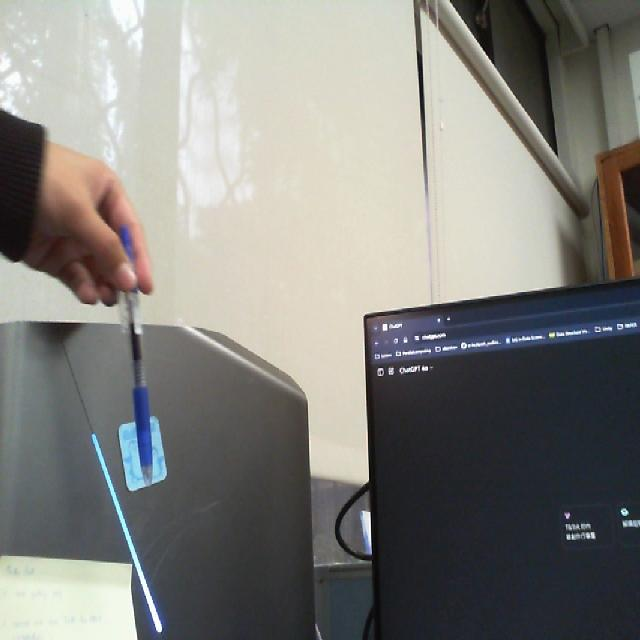Pen: (106, 209, 169, 508)
